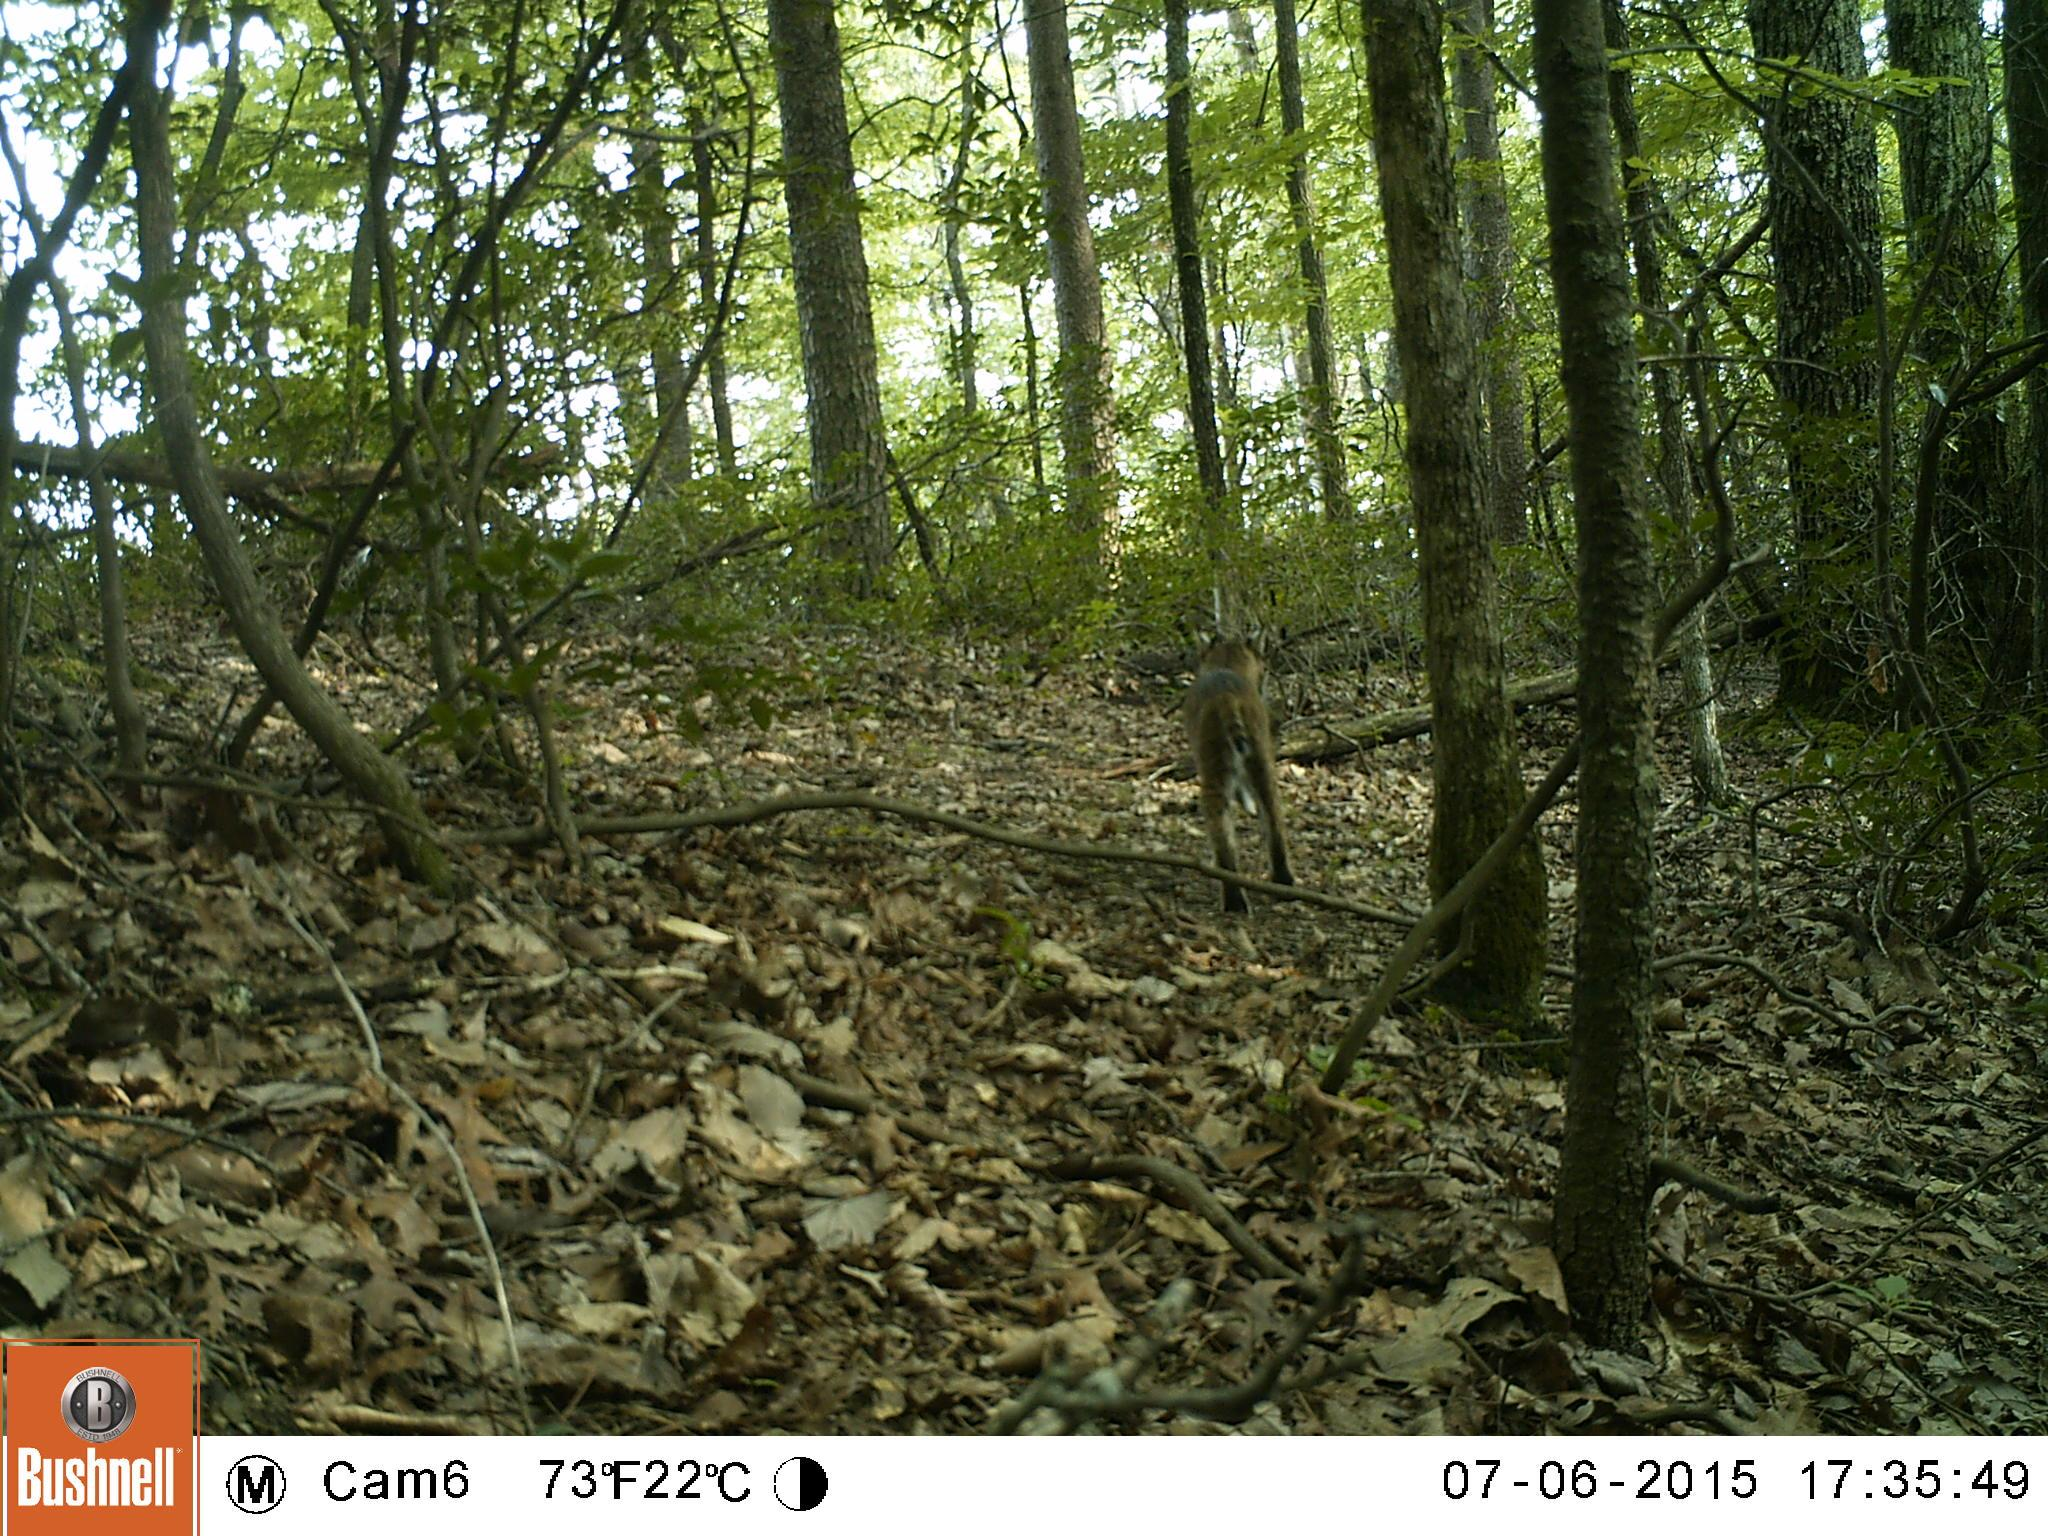Animal: (1185, 636, 1293, 913)
